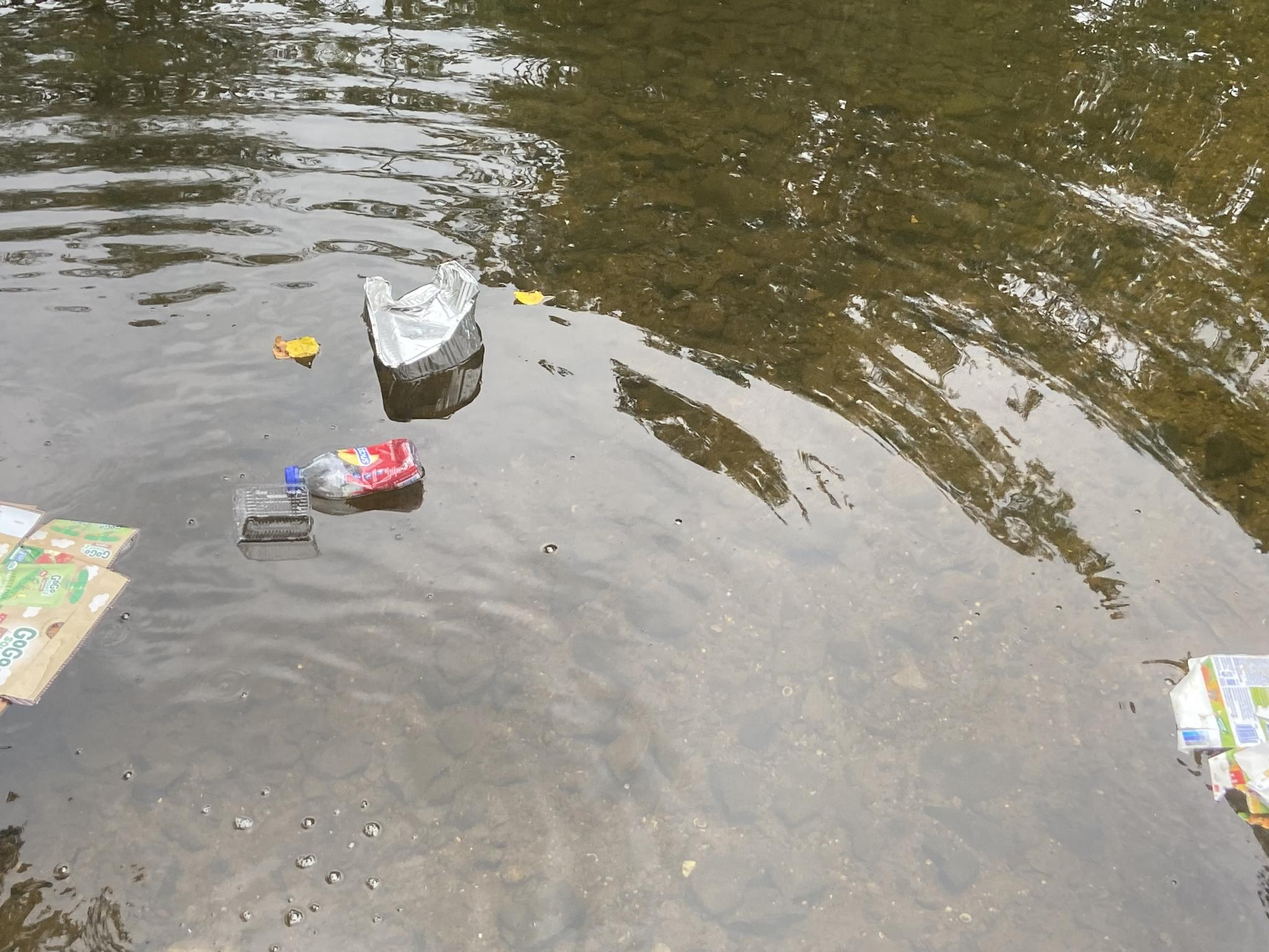cardboard: (25, 512, 149, 694), (1170, 648, 1269, 840)
metal: (361, 252, 488, 377)
plastic: (279, 432, 430, 505), (225, 478, 323, 551)
